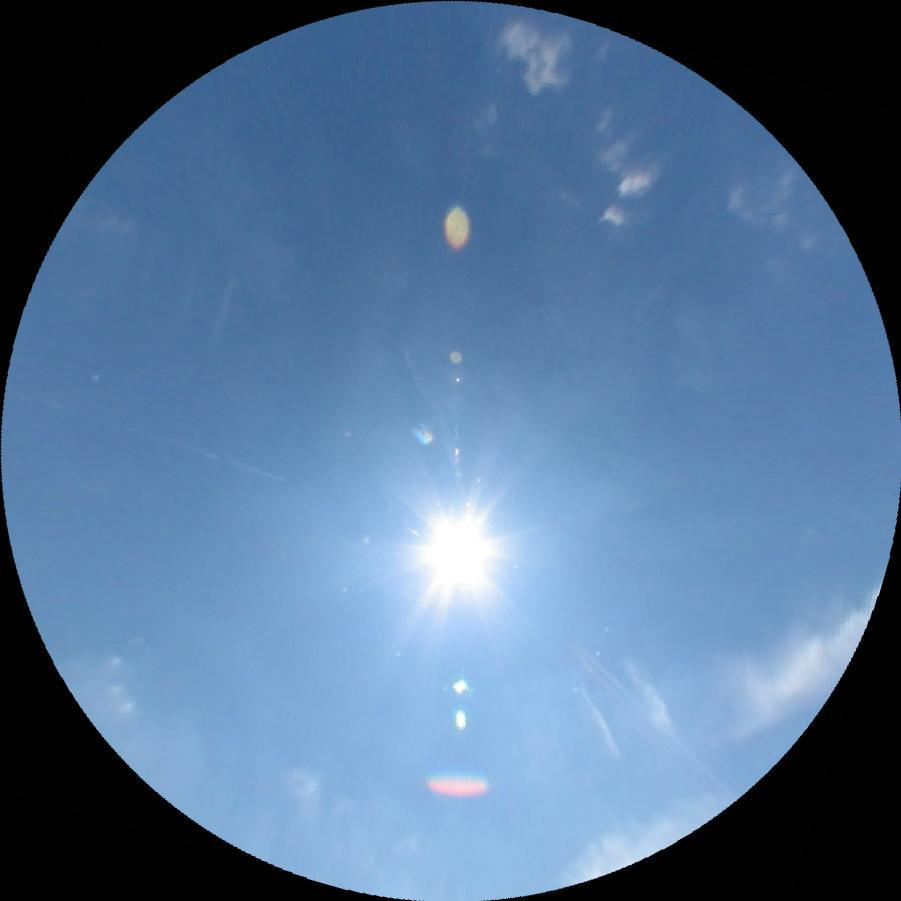contrail old: (579, 687, 624, 761)
parasite: (3, 385, 284, 481), (574, 640, 740, 802), (572, 651, 625, 704)
sun: (412, 503, 502, 597)
